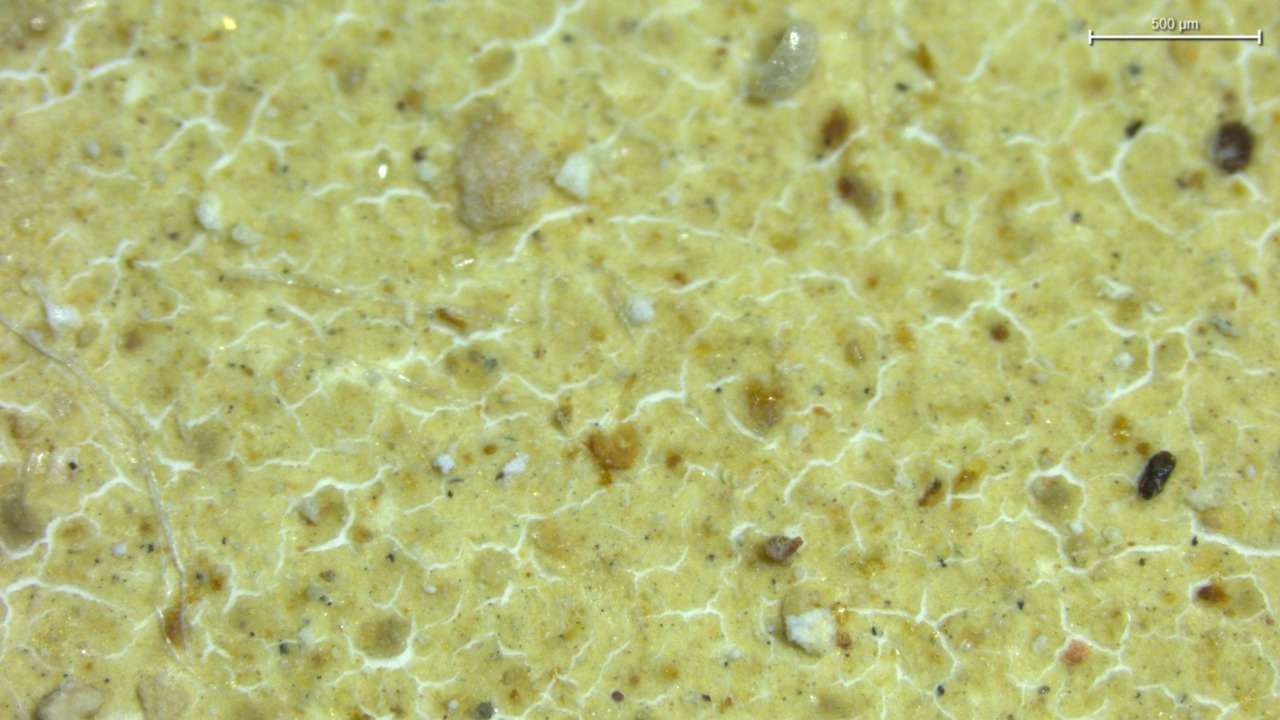microplastic_fragment: (462, 125, 548, 234), (746, 24, 819, 110), (783, 587, 840, 658), (560, 154, 591, 201), (625, 293, 655, 325), (502, 452, 529, 476), (432, 454, 455, 475)
